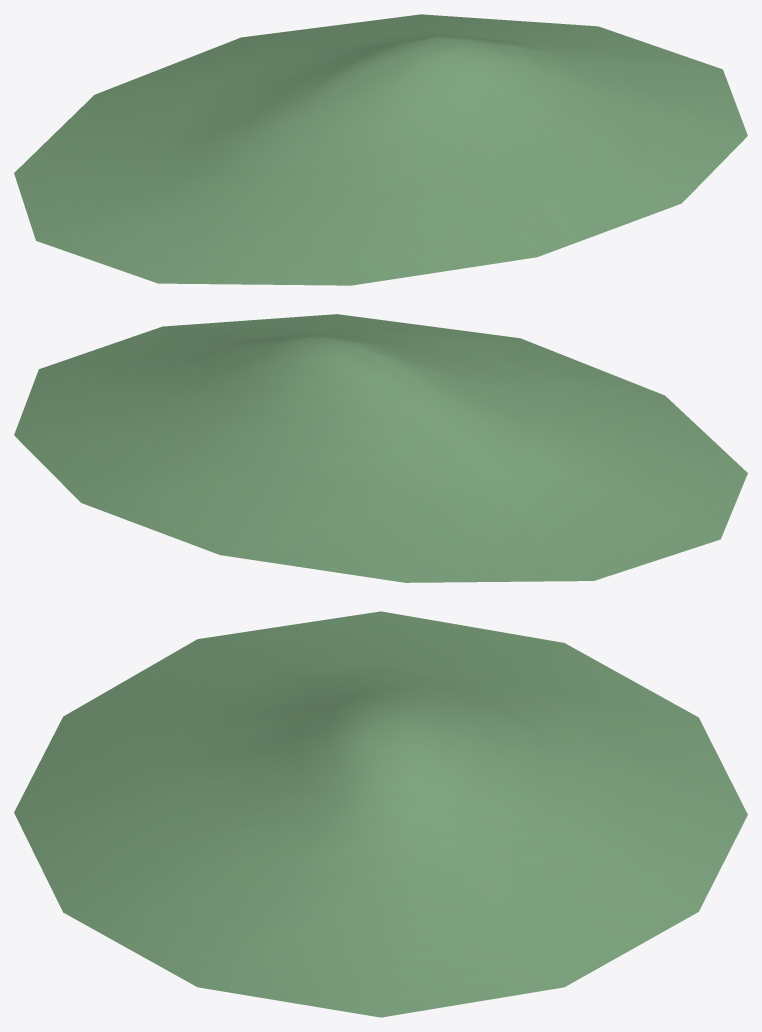
Rendered from dune1.fbx.
The picture shows the model from 3 angles, top to bottom: view 1: azimuth 30°, elevation 25°; view 2: azimuth 150°, elevation 25°; view 3: azimuth 270°, elevation 25°; orthographic projection. The views are drawn at different scales.
Parts seen in each view (by area): view 1: dune2; view 2: dune2; view 3: dune2.
Part boxes in pixels (<box>): dune2: <box>14,14,747,285</box>; dune2: <box>14,314,747,582</box>; dune2: <box>14,611,747,1017</box>.
Size of the model in its own units: 123 by 16.68 by 92.71.
Materials: 1 (1 with a texture image).
